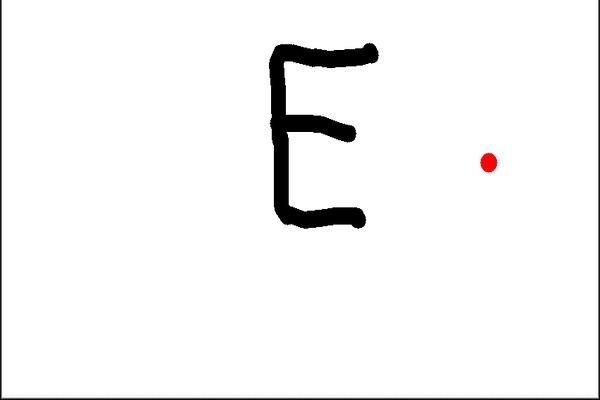E: (262, 36, 388, 235)
